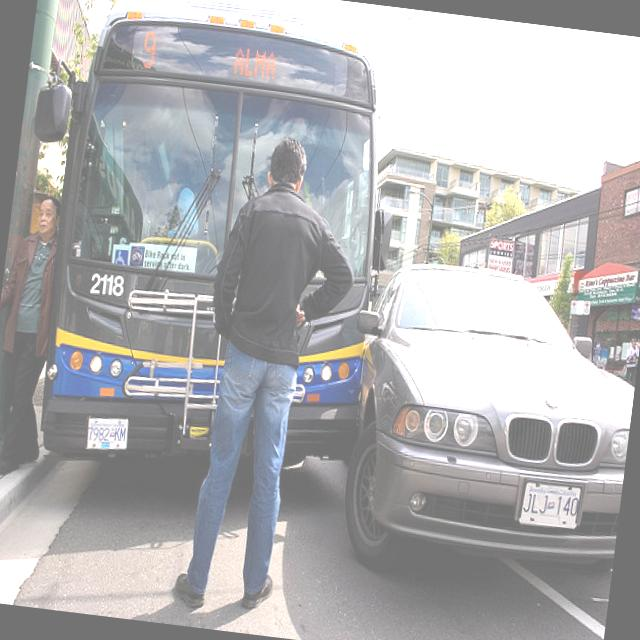Vehicle: (0, 0, 407, 490), (326, 253, 640, 599)
